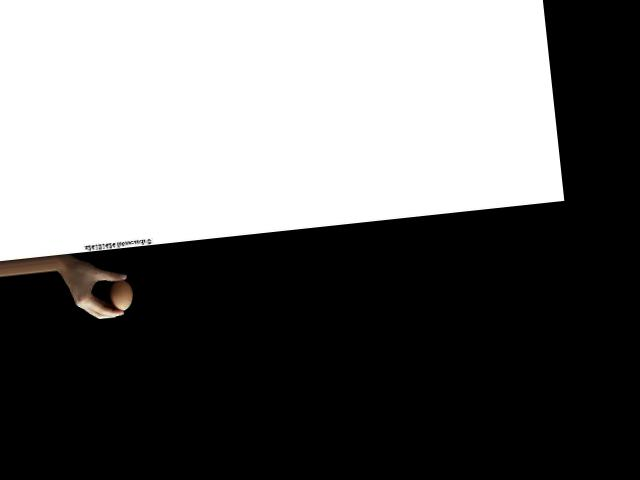egg: (109, 279, 134, 312)
